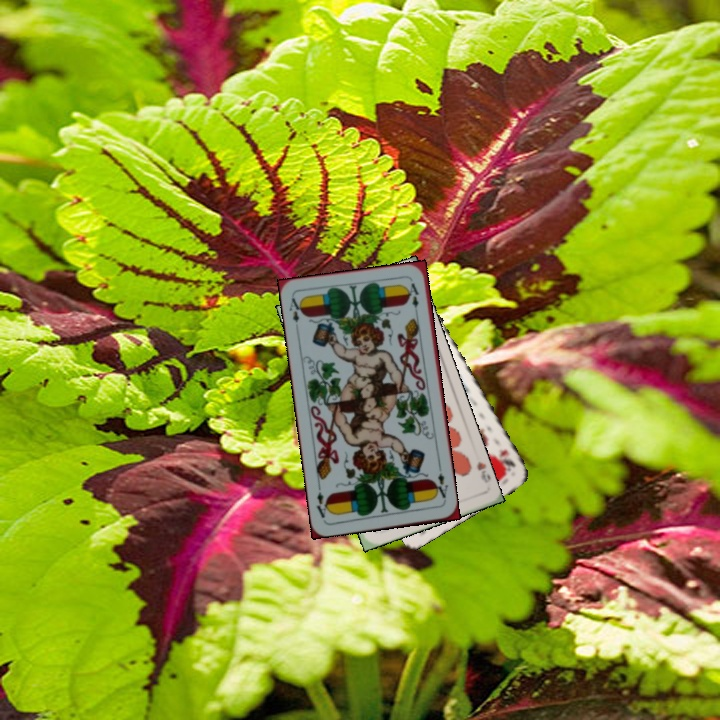EA: (285, 293, 306, 334), (430, 464, 451, 500)
H9: (473, 457, 492, 486)
HK: (496, 445, 518, 470)
